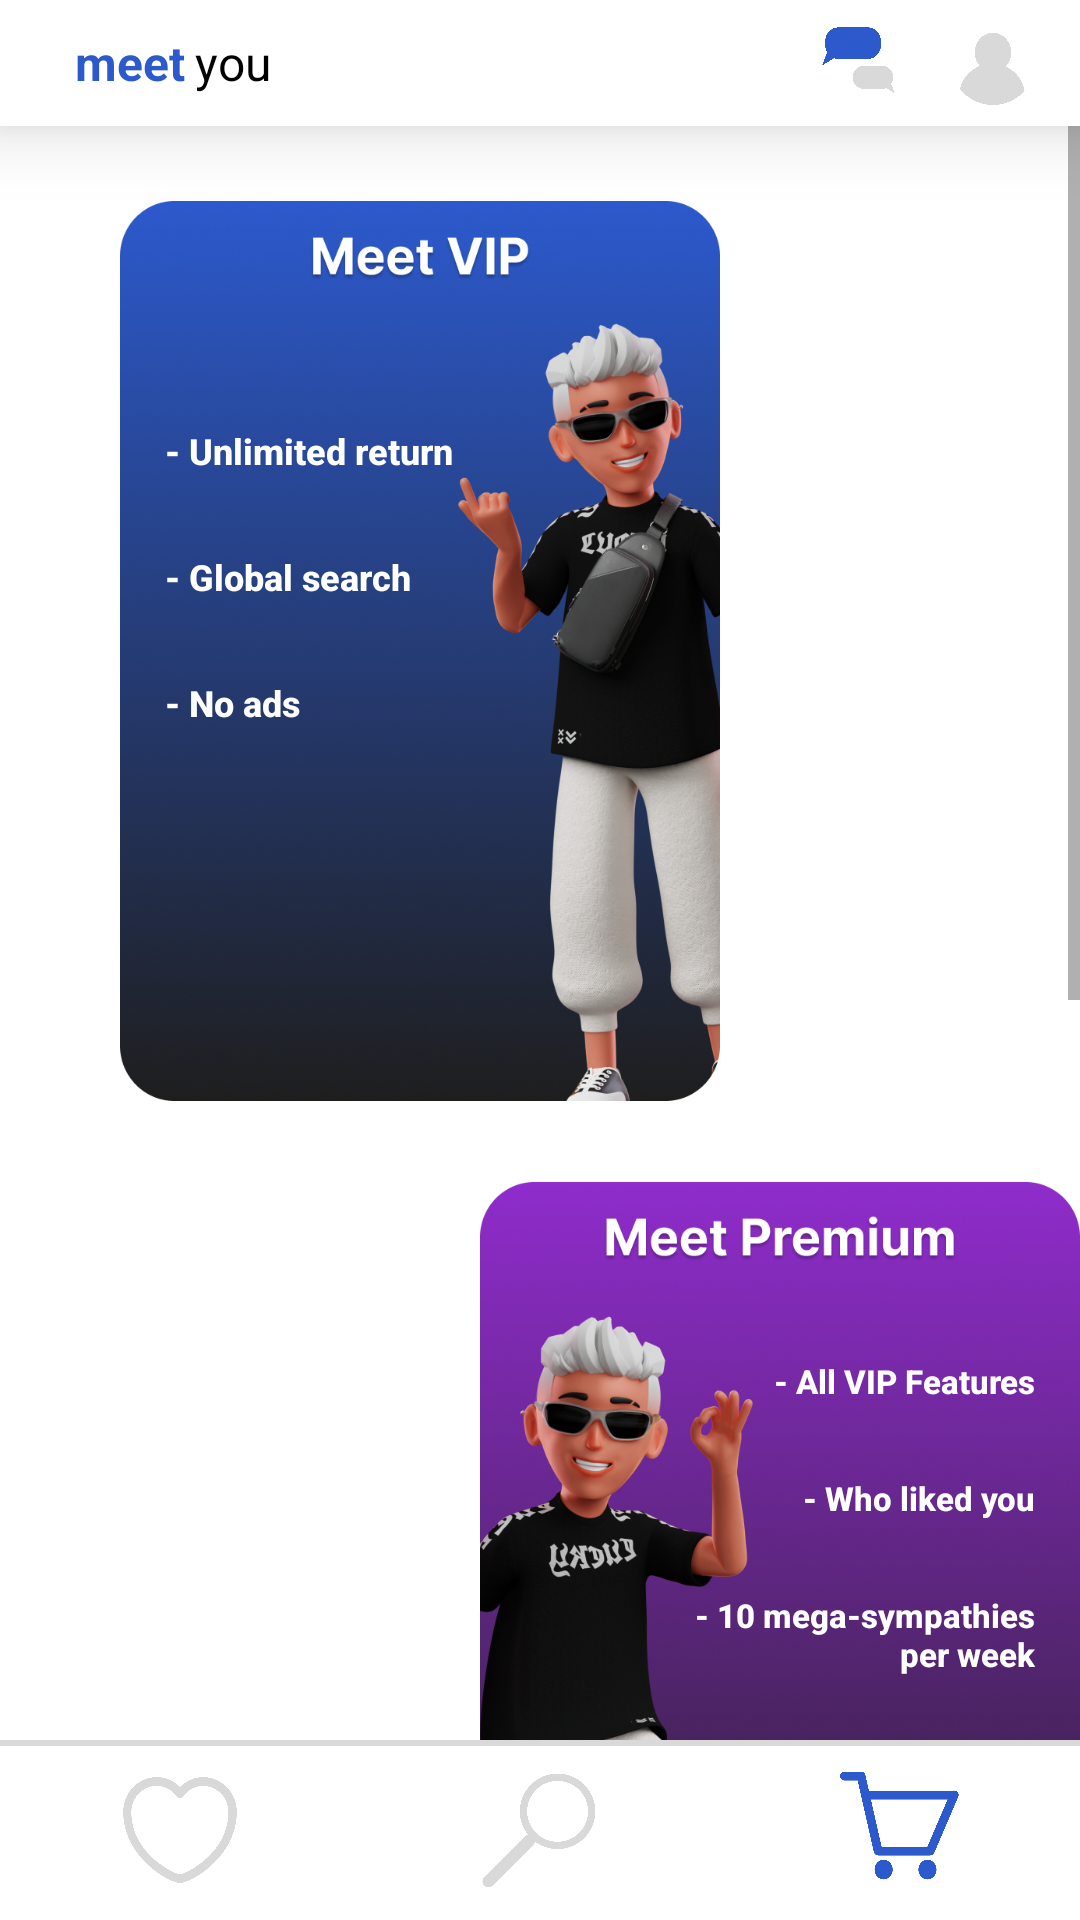

Icon click points for this 1080px×1920px phone screenshot, format (x=x, y=y):
findbutton: (x=539, y=1830)
messagerbutton: (x=858, y=60)
mylikesbutton: (x=180, y=1830)
profilebutton: (x=992, y=69)
shopbuttonblue: (x=899, y=1826)
